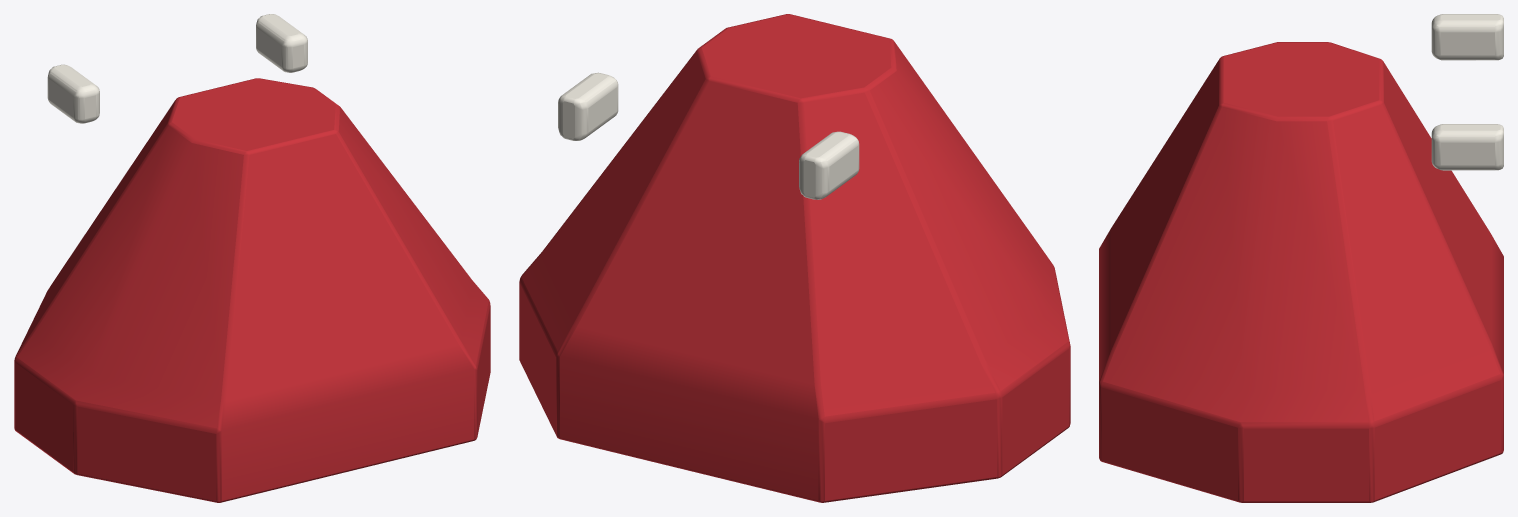
Rendered from AnimalHeadFront_Set04_Ripjaw.fbx.
The picture shows the model from 3 angles, left to right: view 1: azimuth 30°, elevation 25°; view 2: azimuth 150°, elevation 25°; view 3: azimuth 270°, elevation 25°; orthographic projection. The views are drawn at different scales.
Parts seen in each view (by area): view 1: AnimalHeadFront_Set04_Ripjaw; view 2: AnimalHeadFront_Set04_Ripjaw; view 3: AnimalHeadFront_Set04_Ripjaw.
Boxes of the visible parts, x1,y1,x2,y2 form: AnimalHeadFront_Set04_Ripjaw: (14,14,490,502); AnimalHeadFront_Set04_Ripjaw: (519,14,1070,502); AnimalHeadFront_Set04_Ripjaw: (1099,14,1503,502).
Bounding box in the file's own units: 0.36 × 0.2454 × 0.28.
